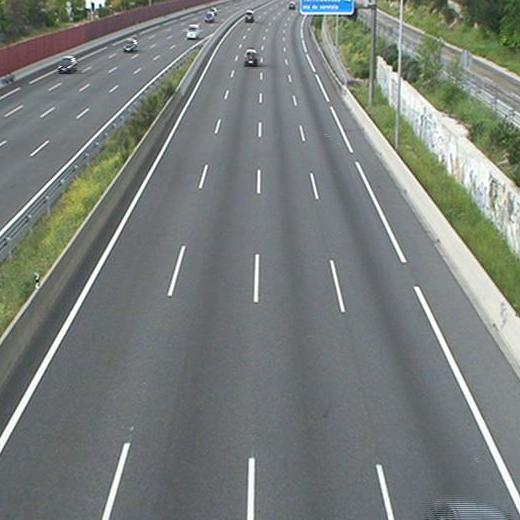car: (244, 50, 258, 66), (245, 11, 254, 21), (287, 2, 295, 10)
